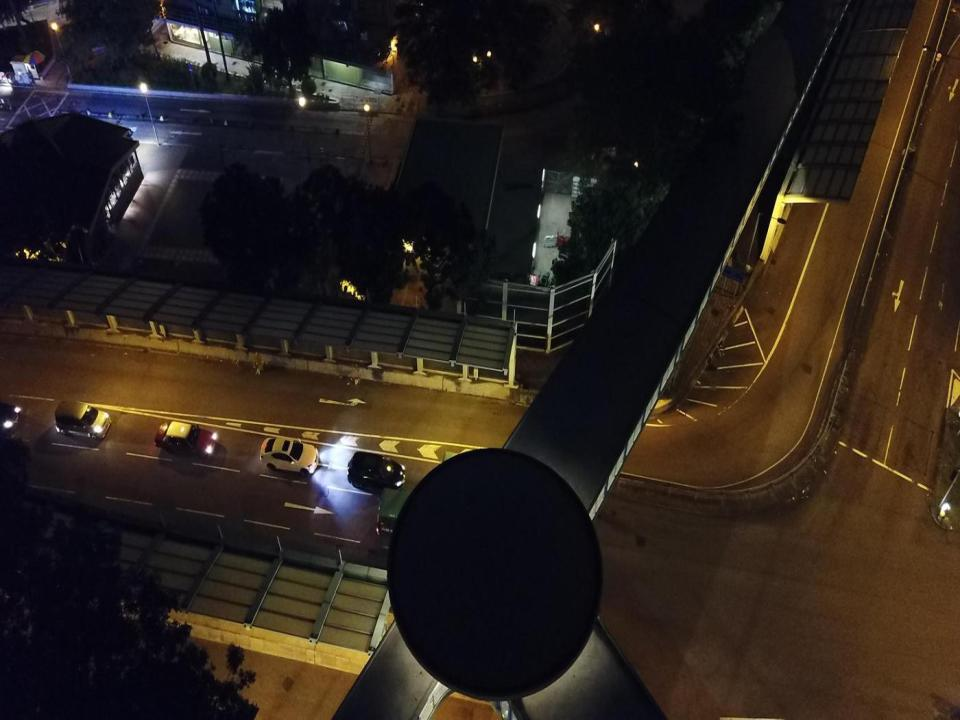bus: (376, 488, 454, 543)
car: (154, 420, 218, 460), (346, 452, 406, 494), (54, 400, 113, 441), (260, 437, 319, 476)
